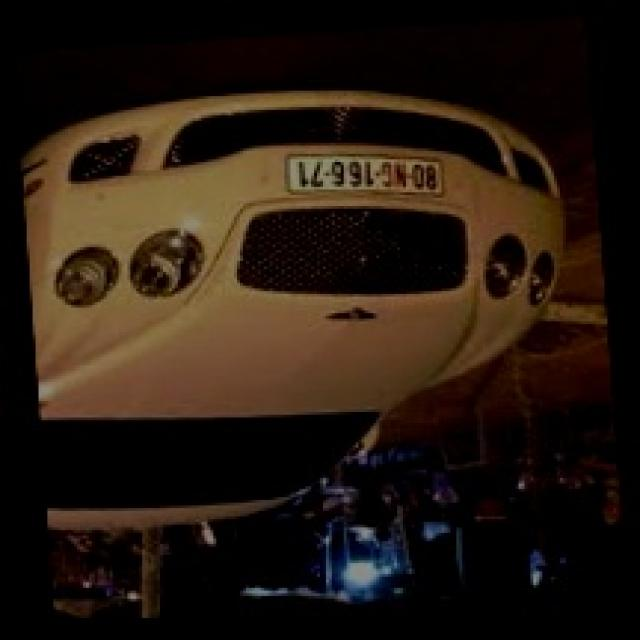bien_ngoai_giao: (285, 152, 449, 201)
